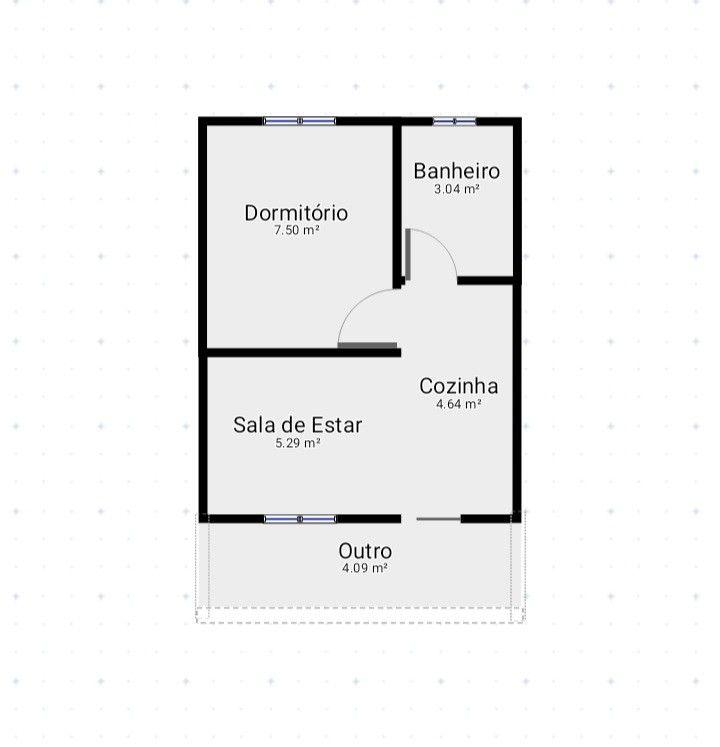wall: (198, 116, 208, 524), (513, 116, 522, 524), (198, 116, 522, 127), (198, 514, 522, 524), (392, 116, 402, 358), (198, 348, 402, 358), (392, 276, 522, 286)
